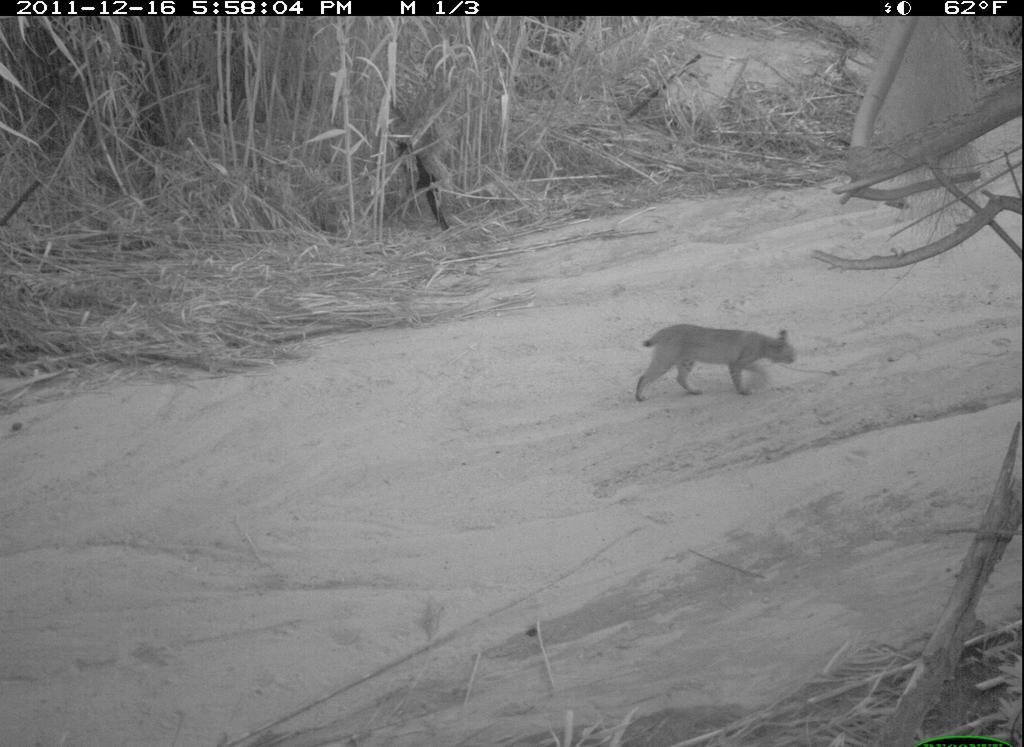bobcat: (621, 321, 806, 411)
